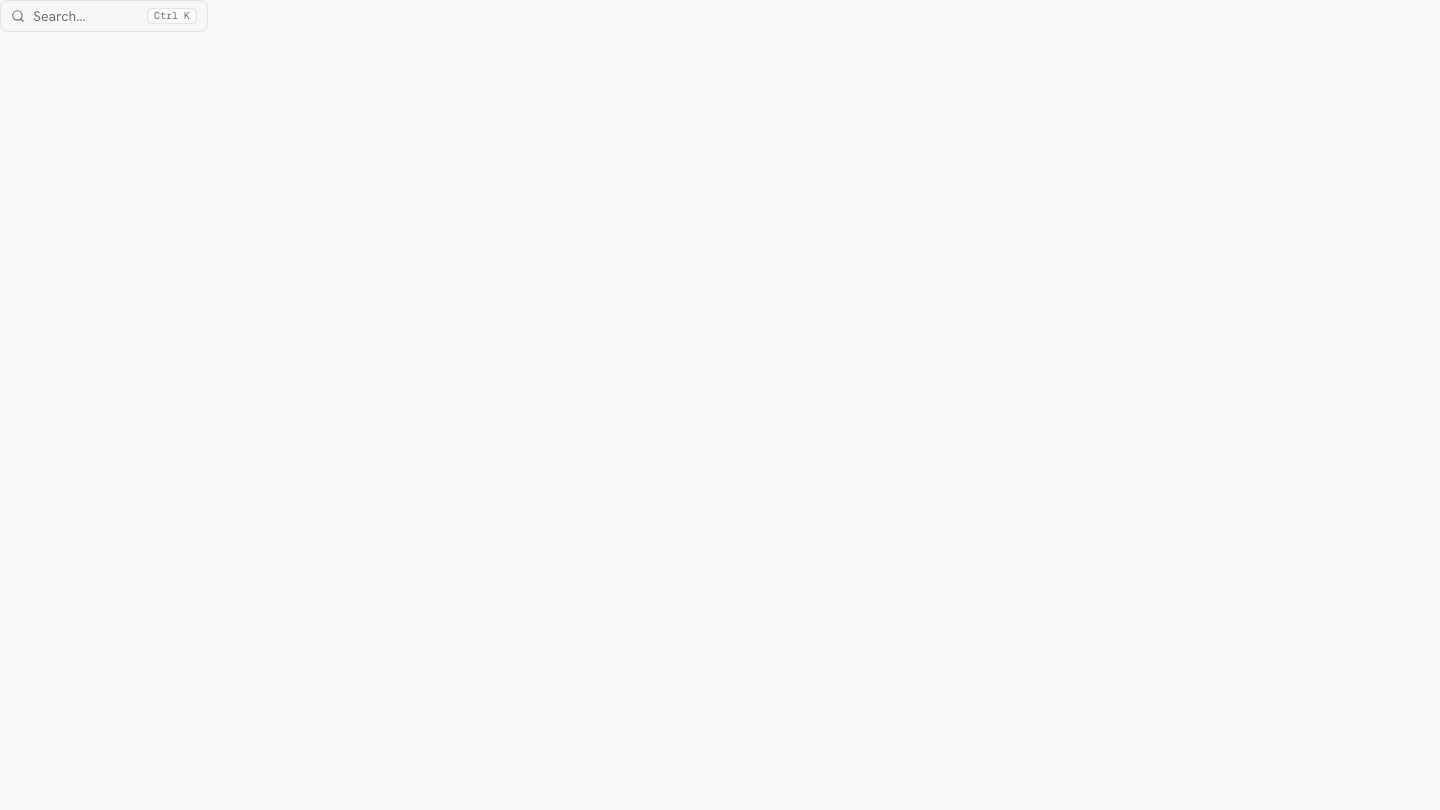
Test: CommandPalette › moves the selection with the arrow keys (wrapping) and opens the selected entry on Enter
Later steps or results of the test are not shown.
Click the button with aria-label "Open command palette" at (104, 16), box 0,0 -> 208,32
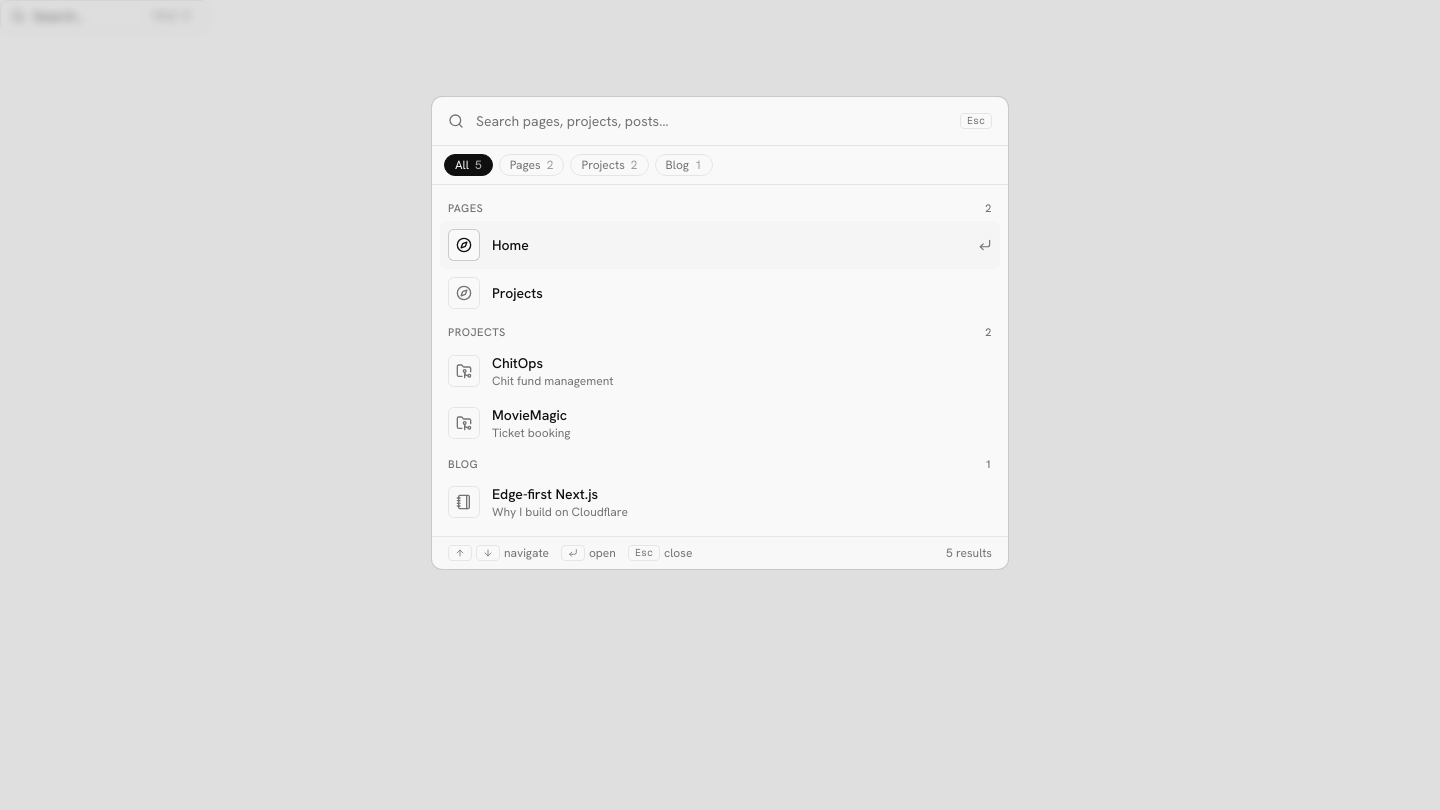
Press ArrowUp in the dropdown labelled "Search", box 476,97 -> 948,145
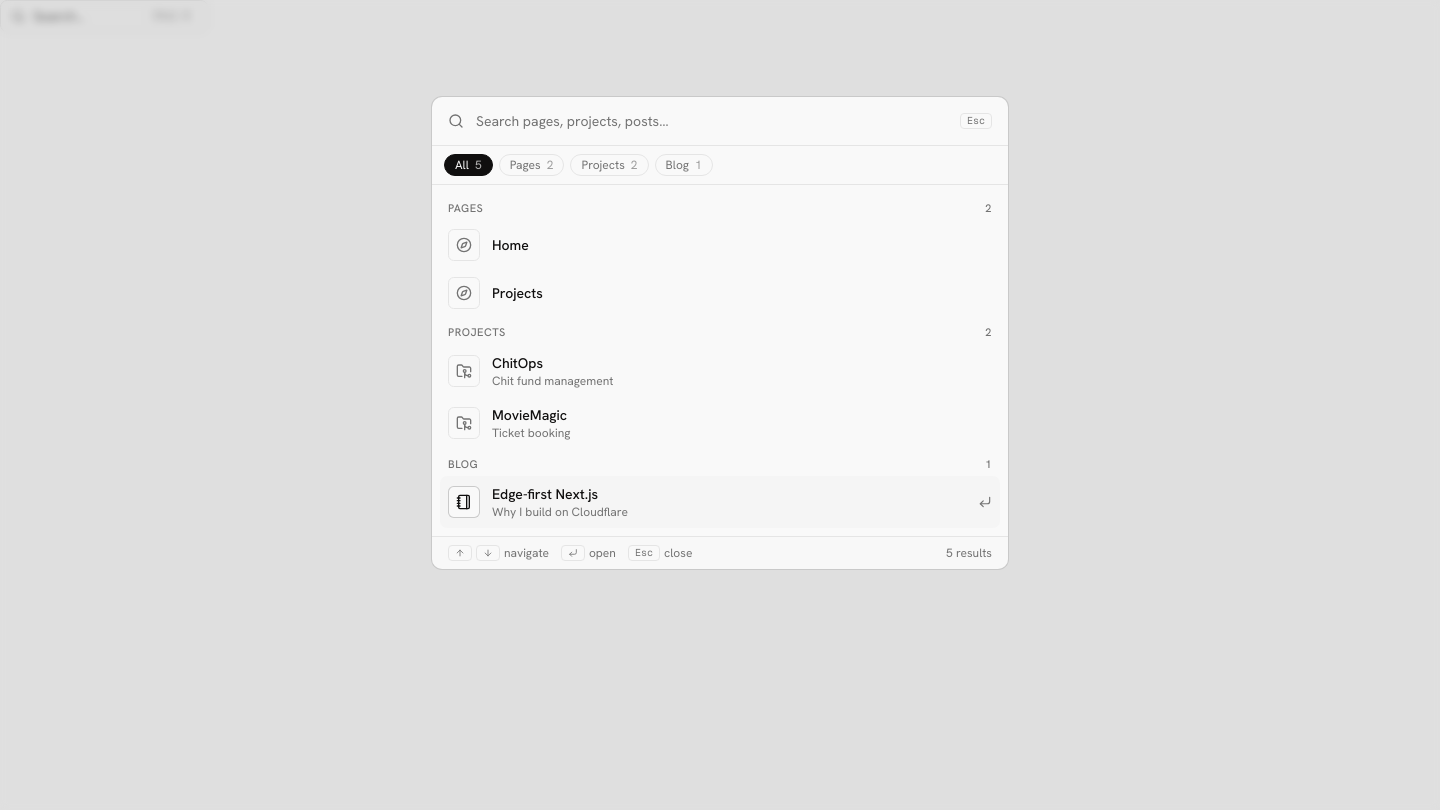
Result: the option "Edge-first Next.js Why I build on Cloudflare" is selected at 440,476 -> 1000,528
